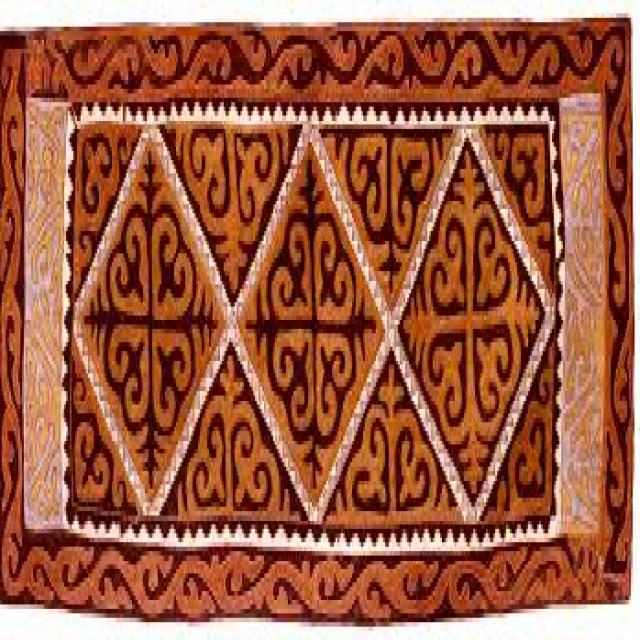Unity: (400, 147, 545, 511), (81, 149, 224, 500), (242, 156, 383, 503)
